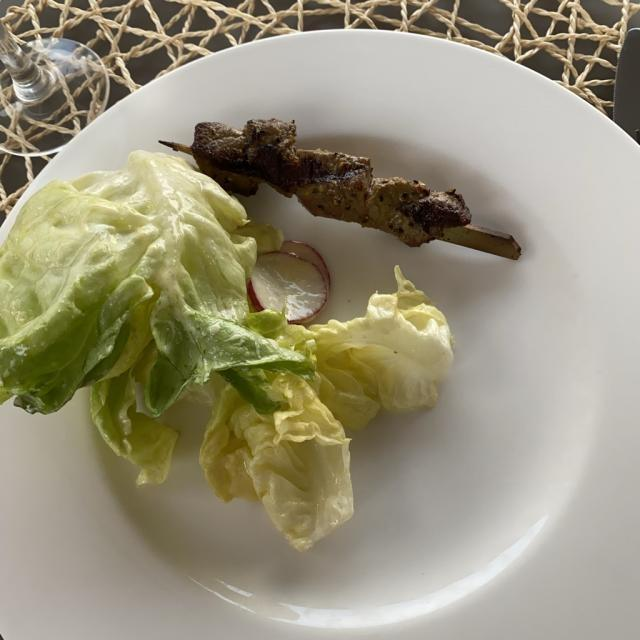radish: (236, 217, 326, 321)
salad: (4, 158, 462, 551)
